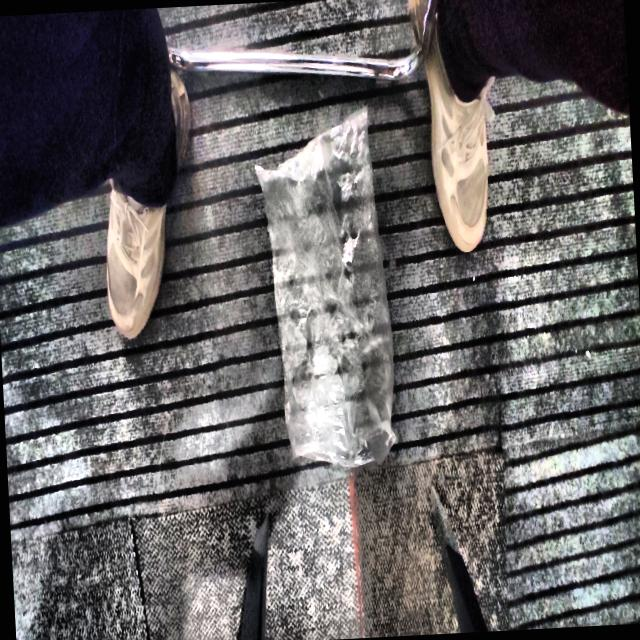plastic bag: (256, 107, 396, 467)
